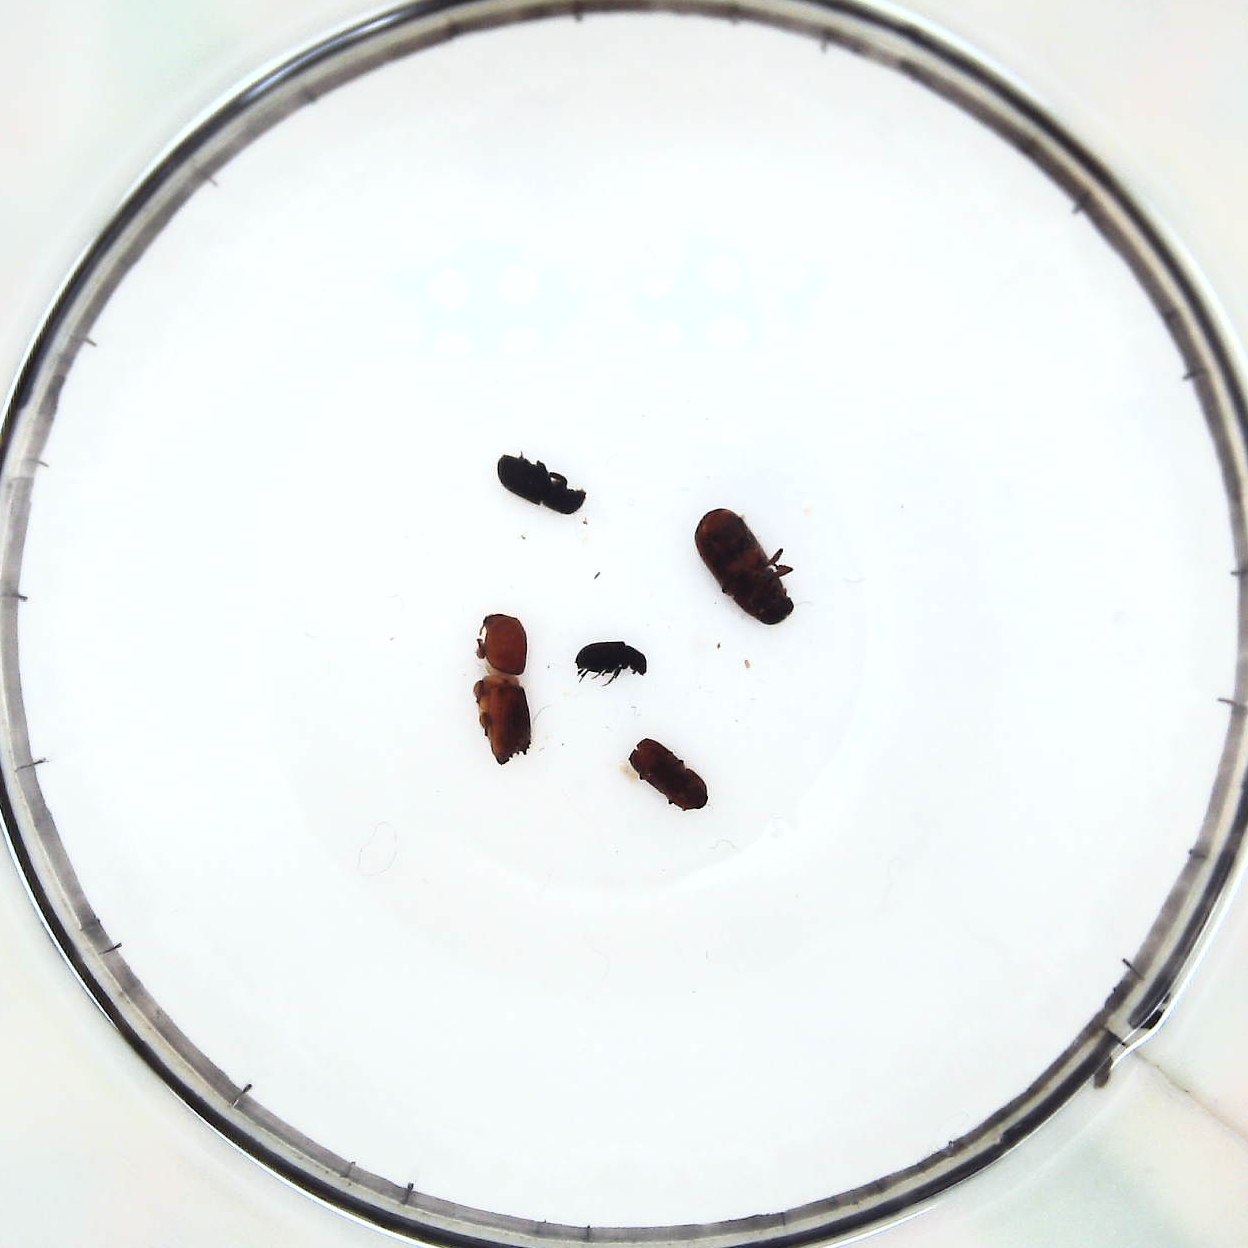Boerner: (474, 610, 537, 773)
Leconte: (695, 504, 800, 629)
Linnaeus: (626, 733, 713, 815)
armandi: (494, 451, 587, 517)
coleoptera: (573, 637, 649, 688)
